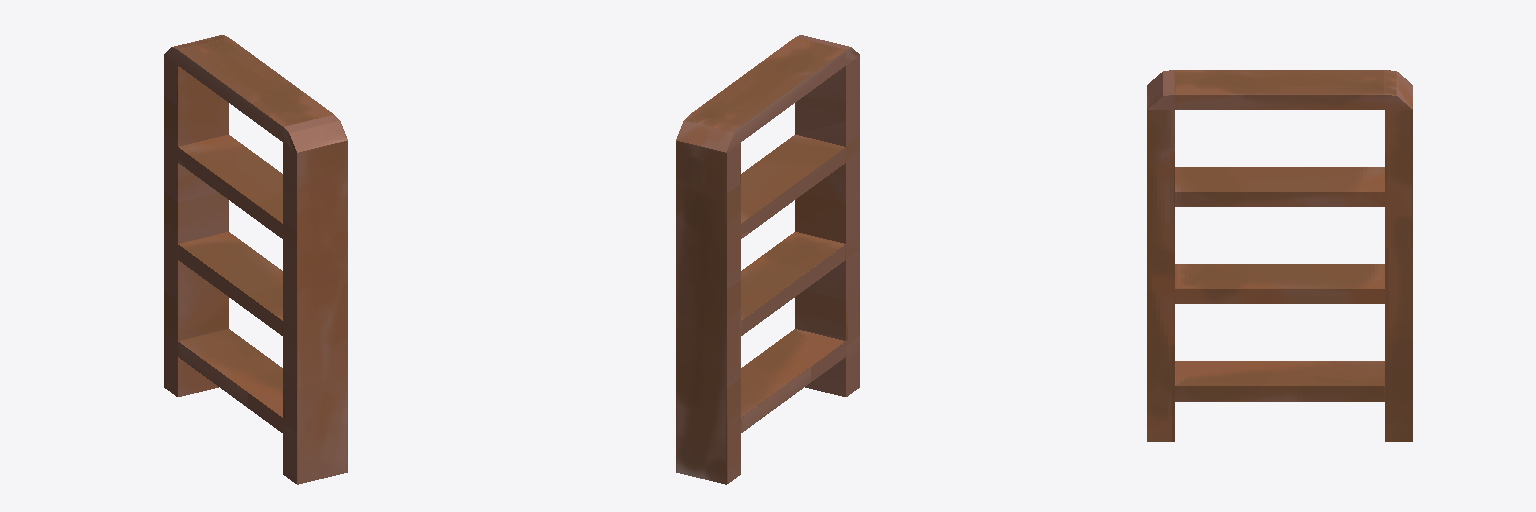
3 views of the same model, side by side, from view 1: azimuth 30°, elevation 25°; view 2: azimuth 150°, elevation 25°; view 3: azimuth 270°, elevation 25° (orthographic).
Visible parts, largest first — view 1: Cube.003; view 2: Cube.003; view 3: Cube.003.
Part boxes in pixels (x1,y1,x2,y2): Cube.003: (164, 35, 347, 484); Cube.003: (676, 35, 859, 484); Cube.003: (1147, 70, 1412, 441).
Bounding box in the file's own units: 0.464 × 3.02 × 2.1.
Materials: 1 (1 with a texture image).